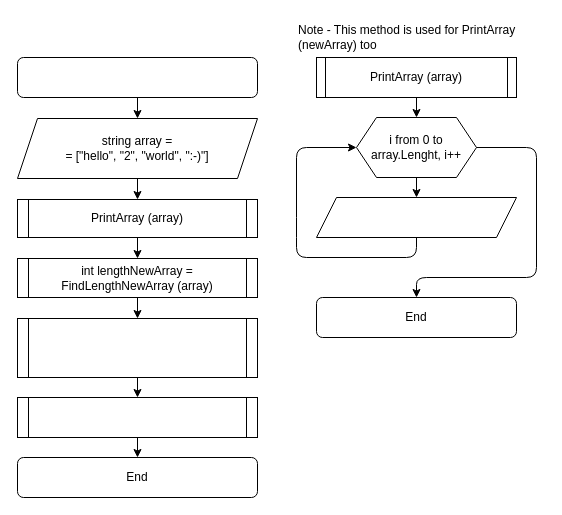
Some shapes in this 562 by 515 pixel diagram are drawn without their labels. Here are the shapes that lost their labels. From the top down, the centre of each, then its label:
At (137,77): "Start".
At (416,217): "print array[i]".
At (137,348): "string newArray = CreatArrayWithElementsLengthNoMore3 (array, lengthNewArray)".
At (137,417): "PrintArray (newArray)".
